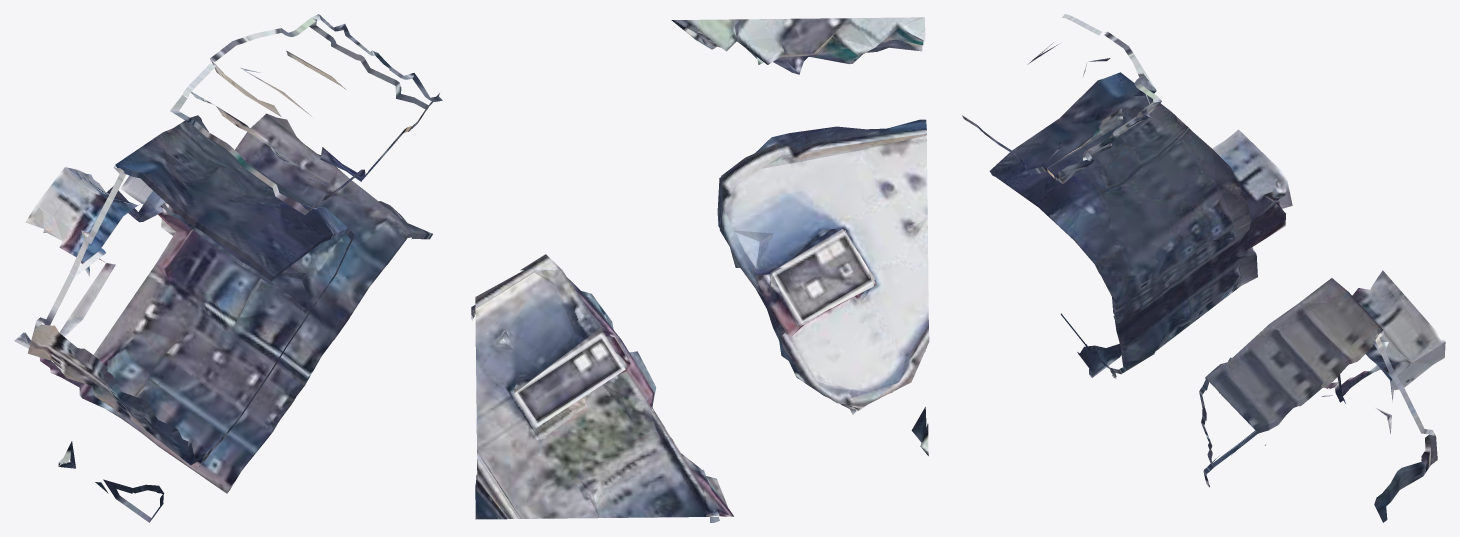
The picture shows the model from 3 angles, left to right: view 1: azimuth 30°, elevation 25°; view 2: azimuth 150°, elevation 25°; view 3: azimuth 270°, elevation 25°; orthographic projection. The views are drawn at different scales.
Bounding box in the file's own units: 37.06 × 40.1 × 41.59.
2 materials, 2 textured.
